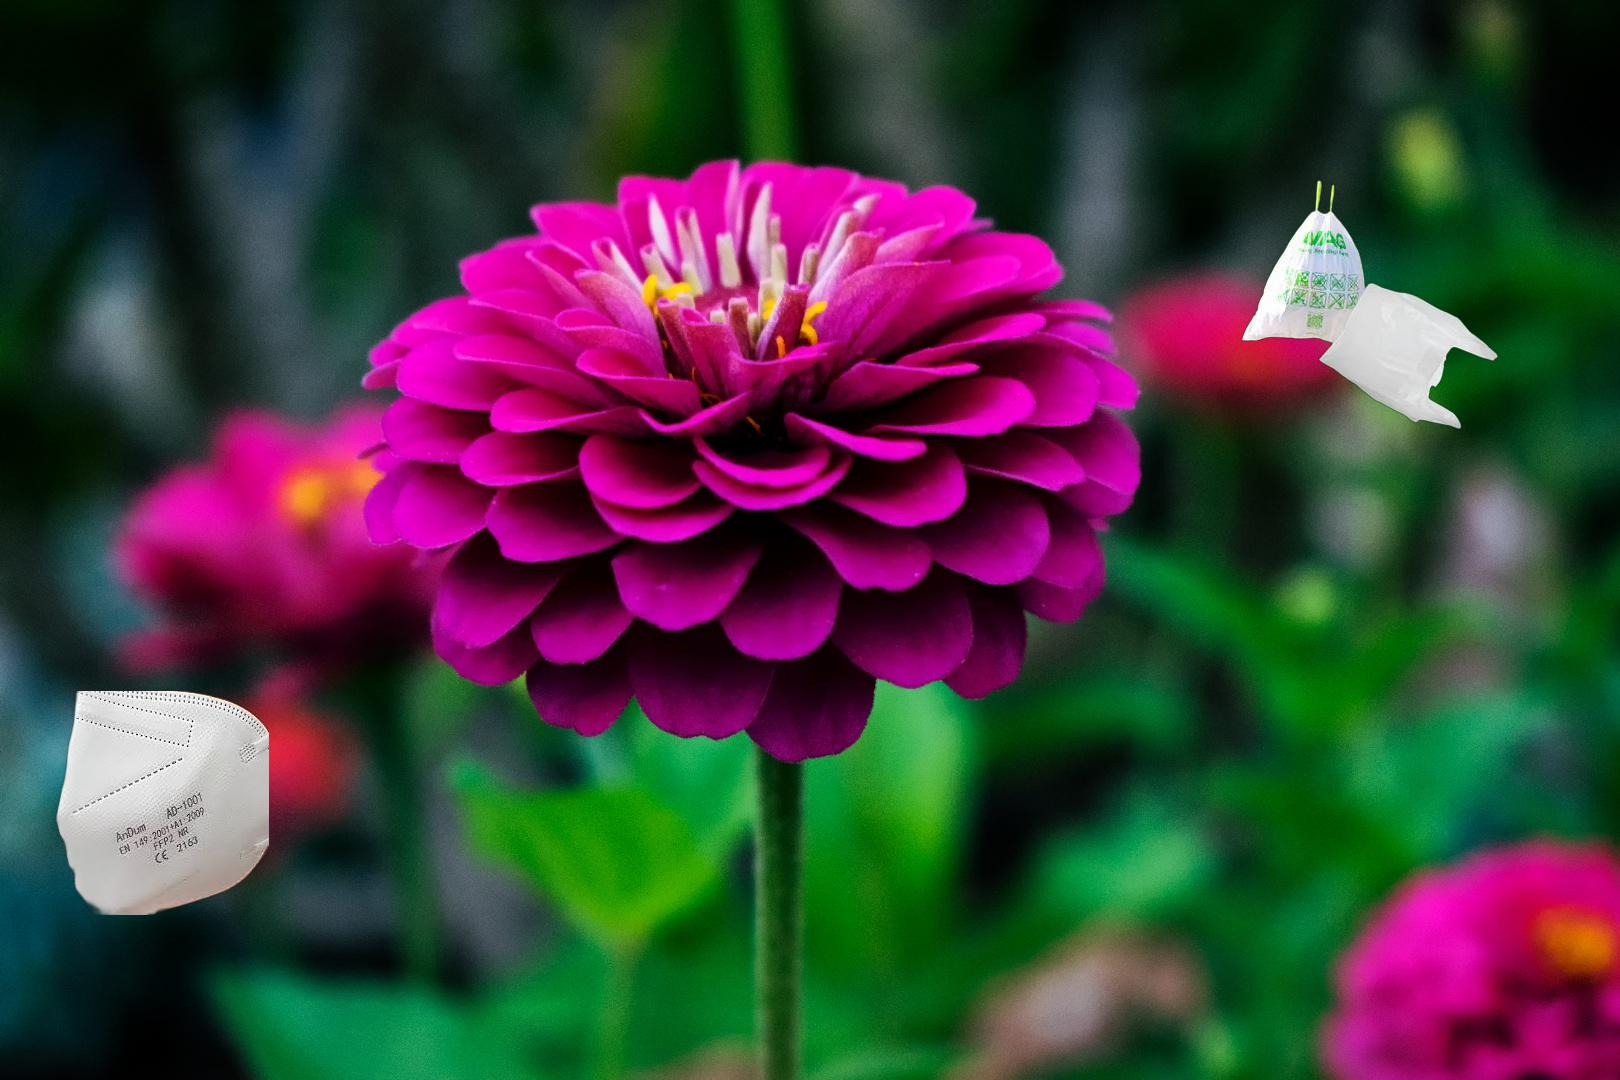plastic-bag: (1239, 178, 1499, 432)
trash: (49, 691, 269, 915)
trashbox-cardboard: (1587, 912, 1620, 1080)
